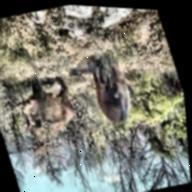boar: (72, 33, 160, 139), (0, 66, 94, 148)
